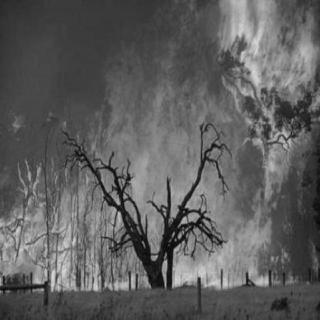Fire: (2, 2, 316, 290)
